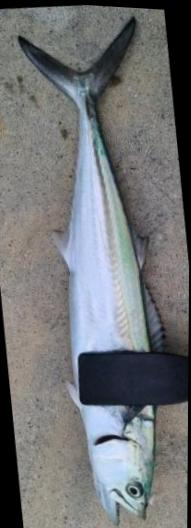fish: (18, 14, 165, 523)
